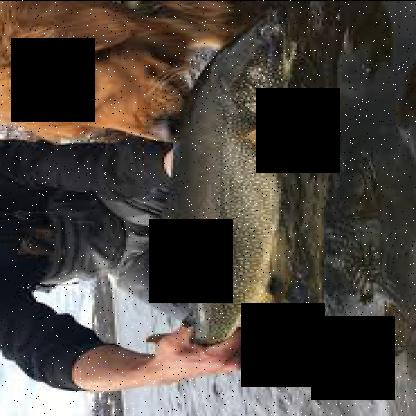fish: (130, 13, 318, 367)
